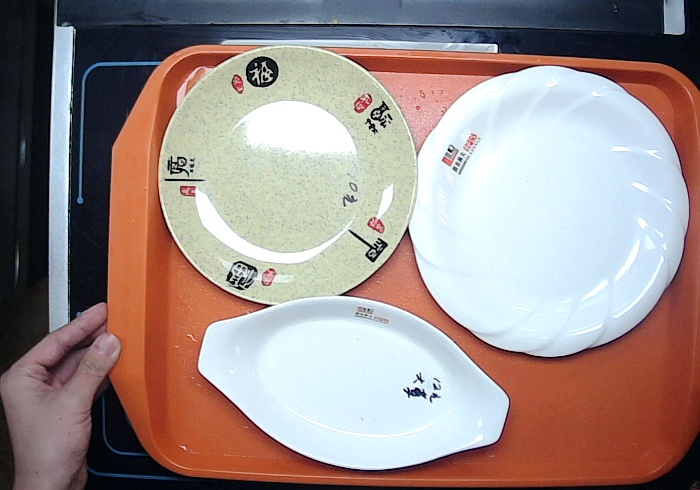NLDX-Bai_Zhe_Yuan_Pan: (407, 63, 691, 360)
NLDX-Fu_Zi_Yuan_Pan: (157, 43, 421, 305)
NLDX-Yu_Pan: (195, 294, 513, 472)
